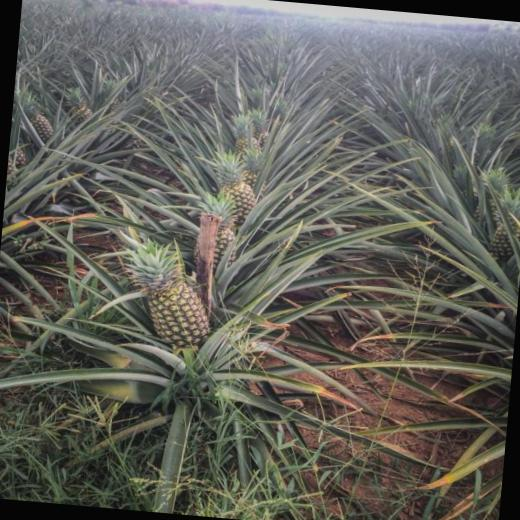Mango: (116, 224, 224, 345), (182, 186, 244, 276), (204, 144, 262, 220), (9, 80, 58, 141), (472, 162, 513, 226), (490, 186, 520, 261), (54, 82, 98, 128), (230, 112, 262, 170), (240, 106, 271, 144), (7, 128, 30, 167)
